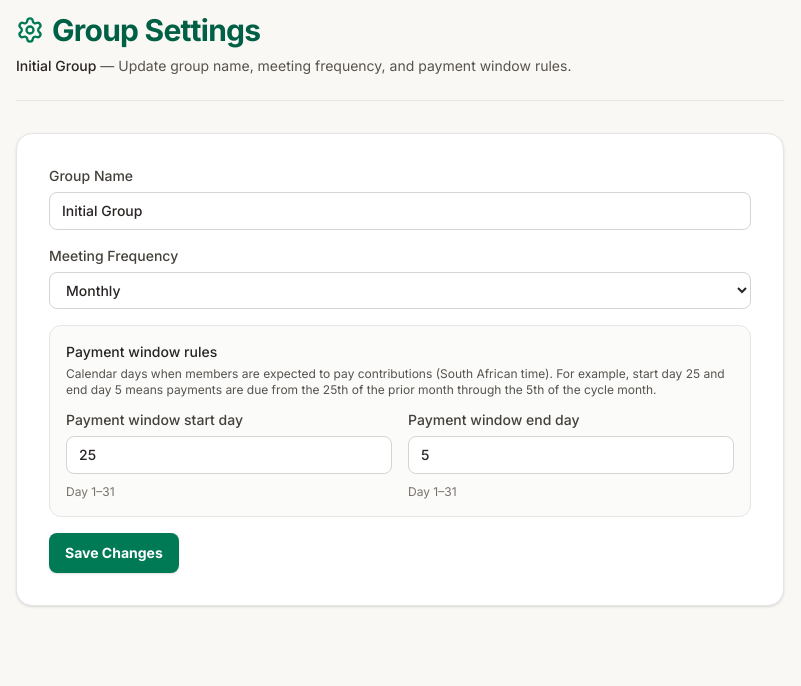
Settings › submits updated values and shows success message
The image size is (801, 686).
Replace the text in the field labelled "Group Name" with "  Updated Group  ": (400,211) [49,192,751,230]
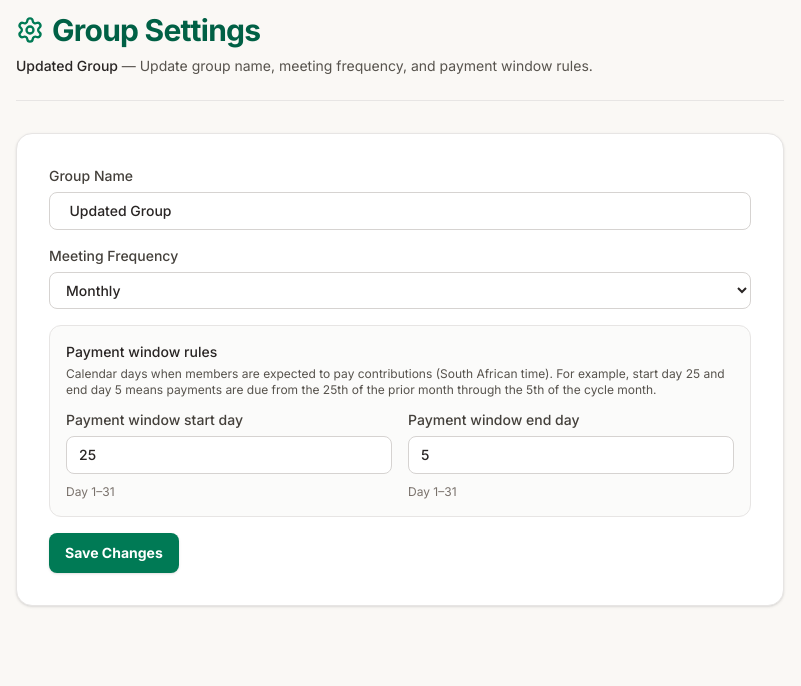
Select "Bi-weekly" in the dropdown labelled "Meeting Frequency": (400,290) [49,272,751,309]
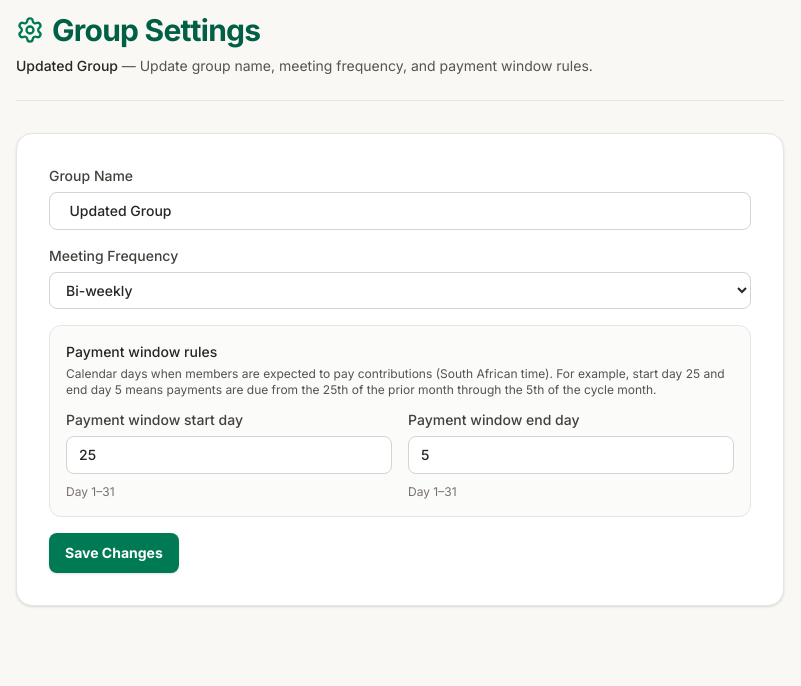
Replace the text in the number field labelled "Payment window start day Day 1–31" with "22": (229,455) [66,436,392,474]
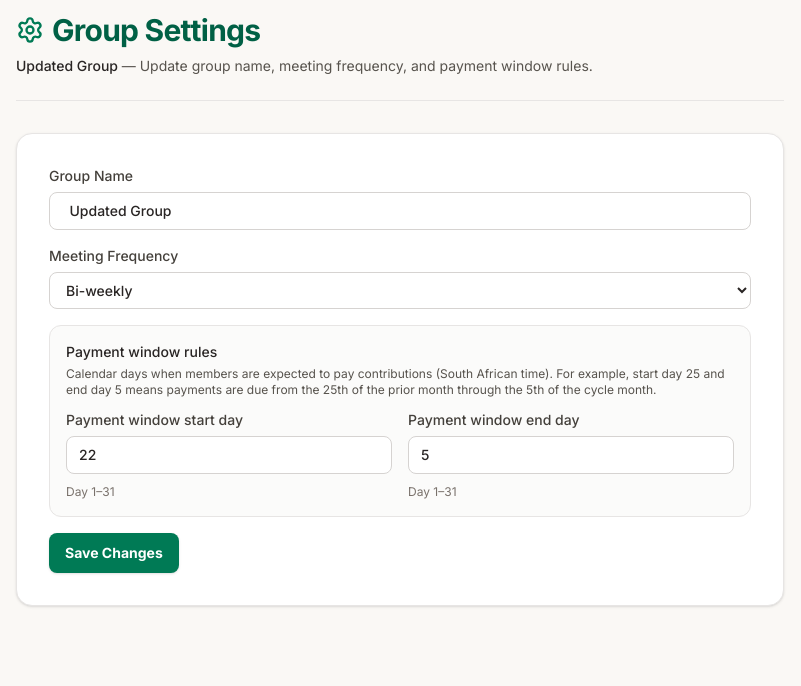
Replace the text in the number field labelled "Payment window end day Day 1–31" with "7": (571,455) [408,436,734,474]
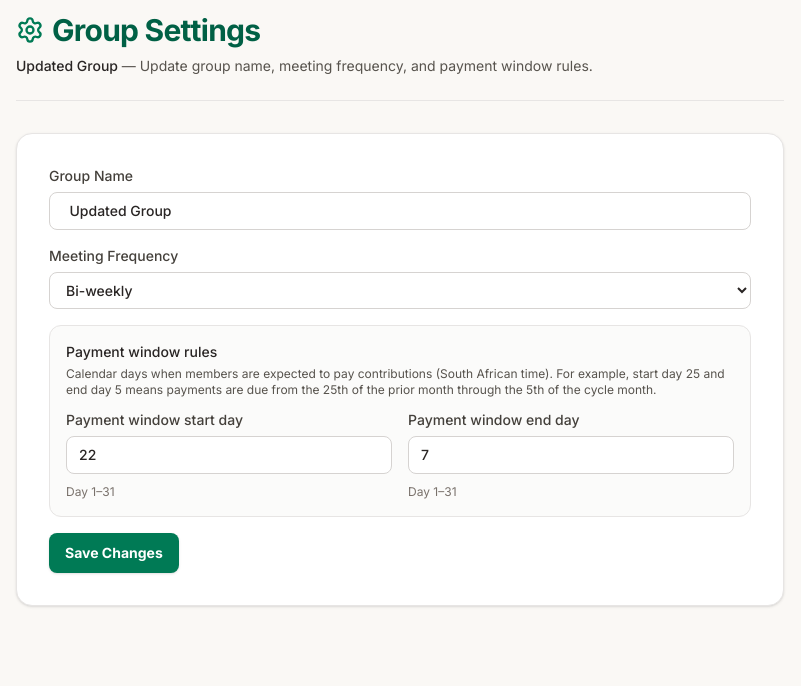
Click the button "Save Changes": (114,553) [49,533,179,573]
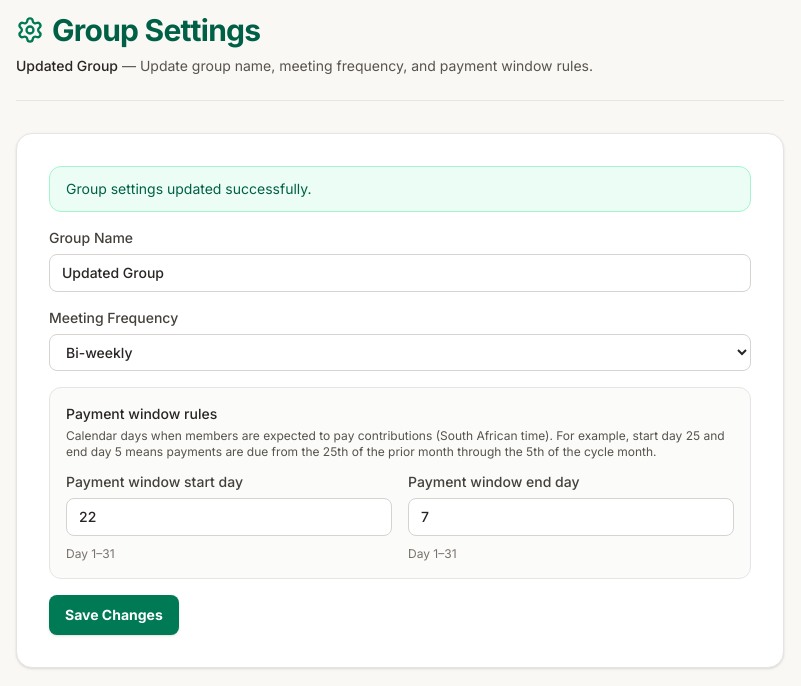
Expected: the text "Group settings updated successfully." is shown, [49,166,751,212]
